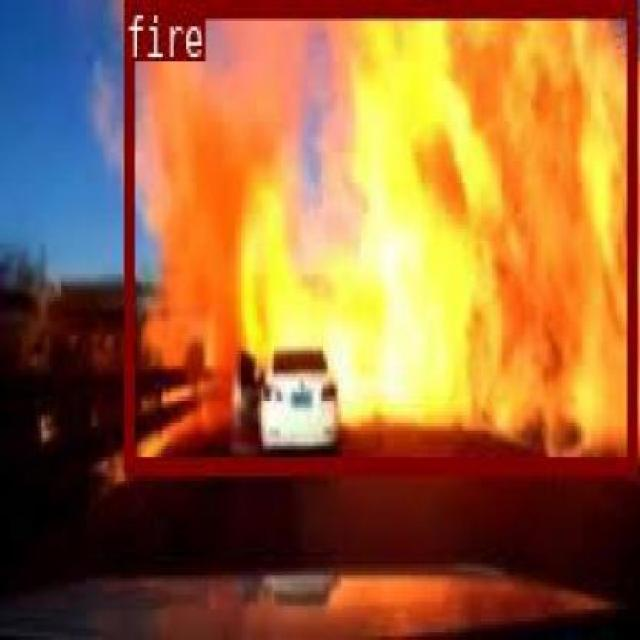fire: (122, 0, 636, 469)
